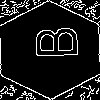B: (25, 25, 78, 59)
